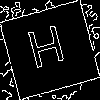H: (24, 24, 70, 78)
